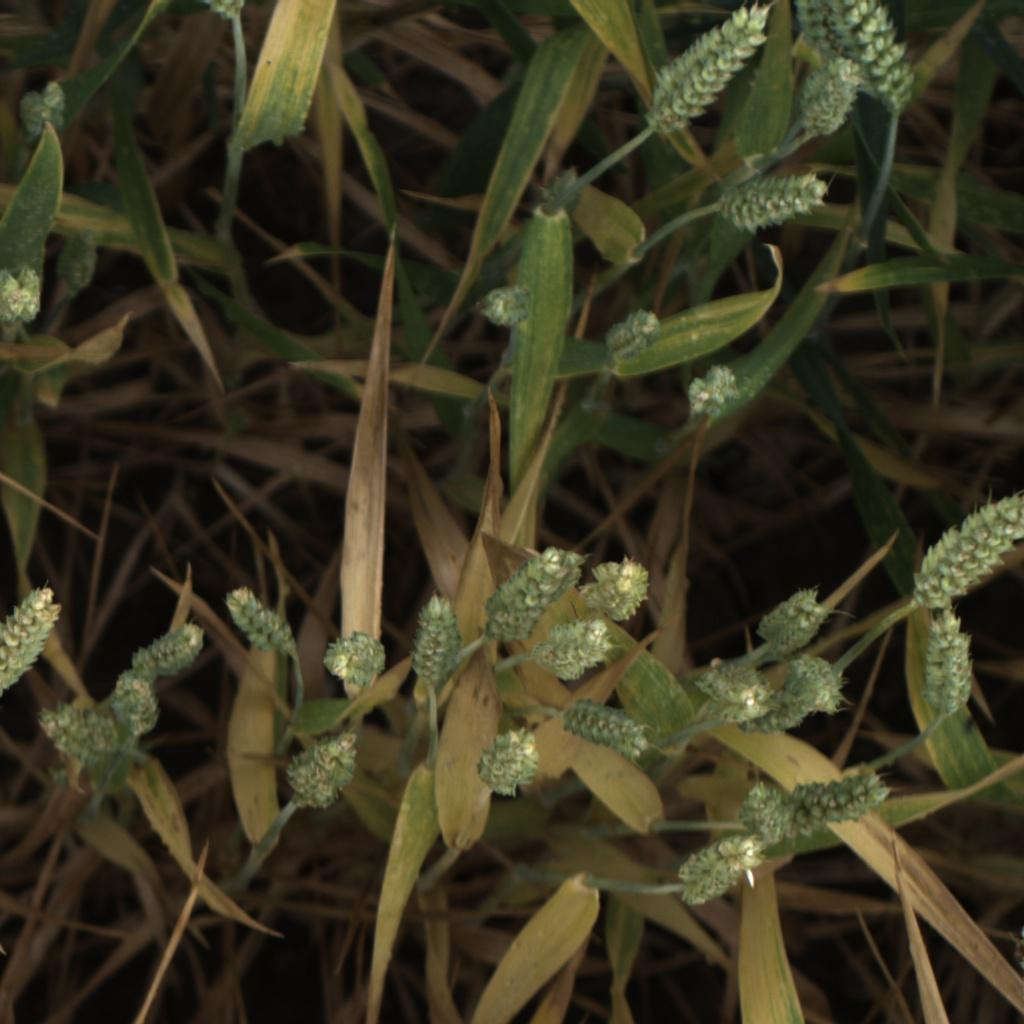0-0: (643, 4, 774, 135), (908, 482, 1024, 602), (471, 543, 577, 639), (833, 5, 926, 106), (0, 575, 64, 700), (719, 163, 832, 233), (275, 730, 366, 816), (919, 608, 979, 725), (529, 611, 620, 687), (678, 833, 767, 907), (789, 56, 869, 137), (467, 732, 549, 808), (405, 587, 464, 688), (578, 549, 655, 626), (564, 700, 652, 767), (798, 767, 891, 830), (213, 579, 292, 652), (693, 660, 775, 728), (39, 692, 114, 760), (599, 299, 671, 369), (783, 2, 852, 74), (757, 580, 834, 644), (134, 610, 206, 678), (776, 651, 846, 720), (11, 71, 75, 143), (322, 630, 393, 694), (465, 275, 542, 334), (105, 666, 166, 737), (676, 363, 744, 425), (736, 782, 800, 847), (0, 259, 48, 328)
